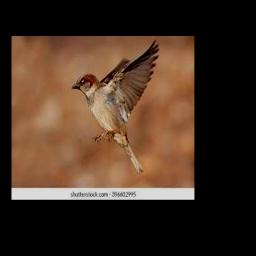Sparrow: (71, 39, 159, 173)
